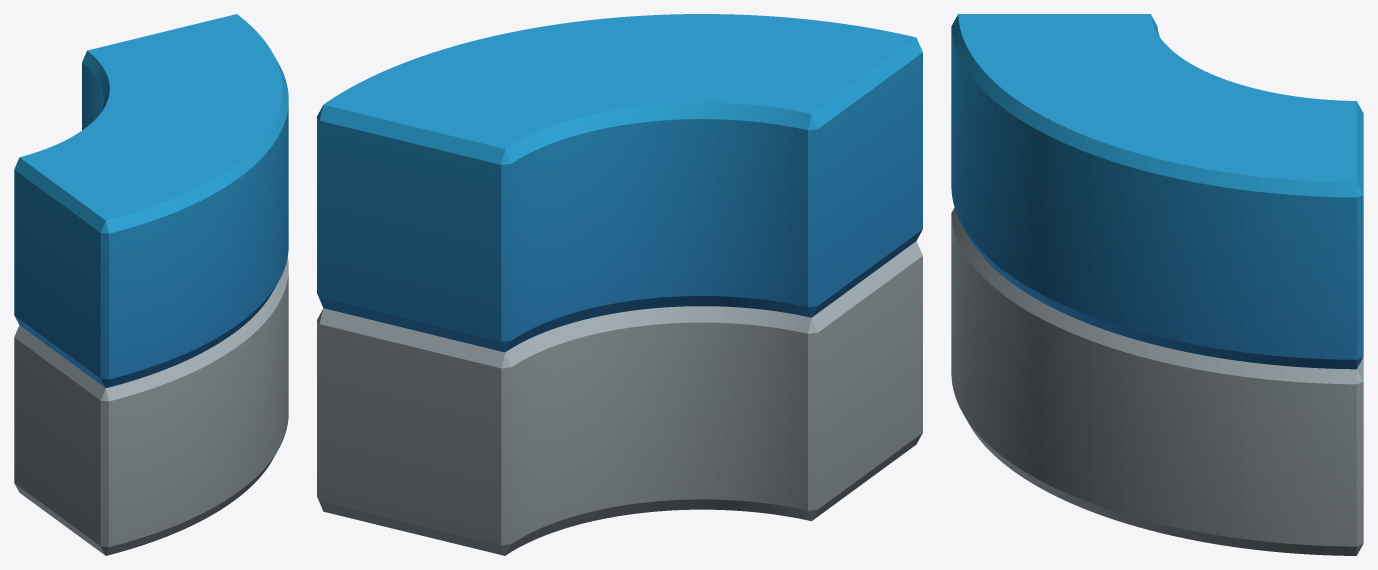
The model's file is kaykit_platform_quarter_curve_1x1x1_blue.glb.
The picture shows the model from 3 angles, left to right: view 1: azimuth 30°, elevation 25°; view 2: azimuth 150°, elevation 25°; view 3: azimuth 270°, elevation 25°; orthographic projection. The views are drawn at different scales.
Parts seen in each view (by area): view 1: kaykit_platform_quarter_curve_blue_visual; view 2: kaykit_platform_quarter_curve_blue_visual; view 3: kaykit_platform_quarter_curve_blue_visual.
Part boxes in pixels (box(x1,y1,x2,y2)): kaykit_platform_quarter_curve_blue_visual: box(14, 14, 288, 555); kaykit_platform_quarter_curve_blue_visual: box(317, 14, 922, 555); kaykit_platform_quarter_curve_blue_visual: box(951, 14, 1363, 555).
Size of what is drawn, in the model's own units: 0.9997 by 1 by 0.9997.
1 material, 1 textured.
